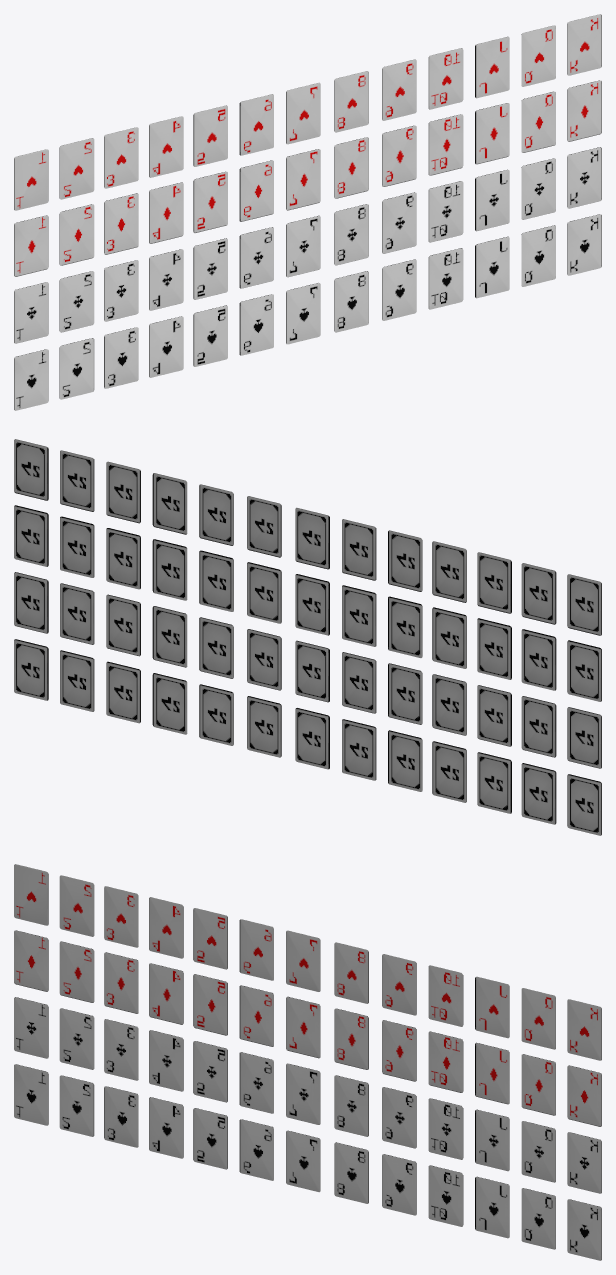
Rendered from cardsLowPoly.gltf.
The picture shows the model from 3 angles, top to bottom: view 1: azimuth 30°, elevation 25°; view 2: azimuth 150°, elevation 25°; view 3: azimuth 330°, elevation 25°; orthographic projection.
Visible parts, largest first — view 1: Polygon Reduction.1; view 2: Polygon Reduction.1; view 3: Polygon Reduction.1.
Part boxes in pixels (x1,y1,x2,y2): Polygon Reduction.1: [14, 14, 601, 410]; Polygon Reduction.1: [14, 439, 601, 835]; Polygon Reduction.1: [14, 864, 601, 1260].
Size of the model in its own units: 1.37 by 0.5649 by 0.001.
Materials: 1 (1 with a texture image).
